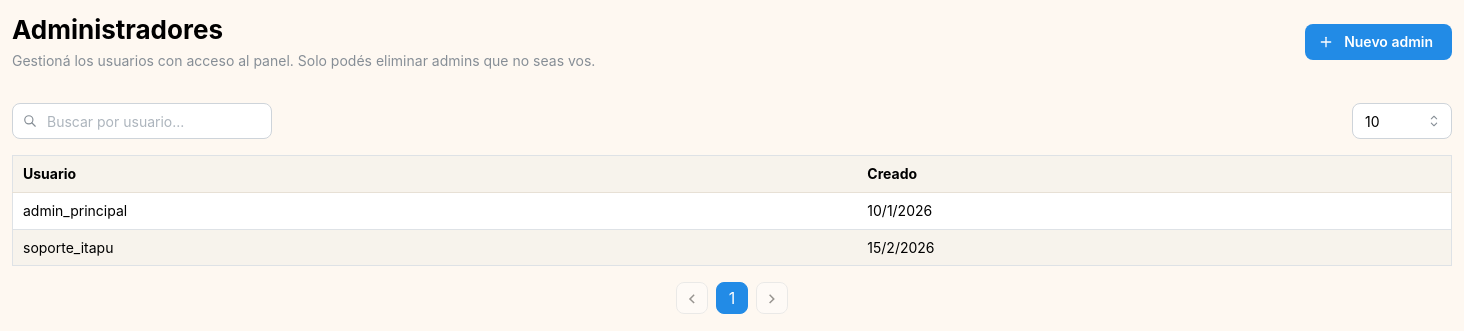
Scenario: AdminsPage › debería listar administradores y permitir filtrar por nombre de usuario
The image size is (1464, 331).
Expected: the text "admin_principal" is shown, [12,193,857,229]
Expected: the text "soporte_itapu" is shown, [12,229,857,266]
Step 1. Type "soporte" into the field with placeholder "Buscar por usuario..." → (142, 121), box [12,103,272,139]
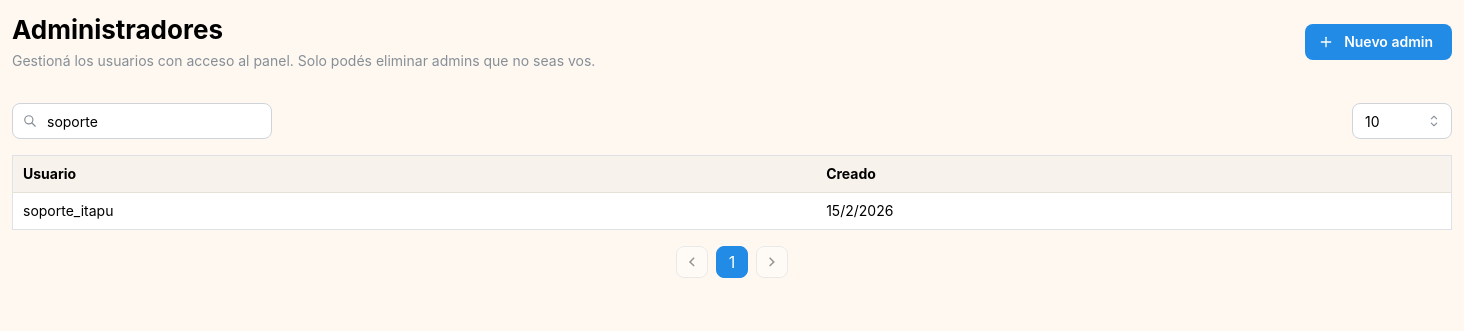
Expected: the text "soporte_itapu" is shown, [12,193,816,229]
Expected: the text "admin_principal" is gone
